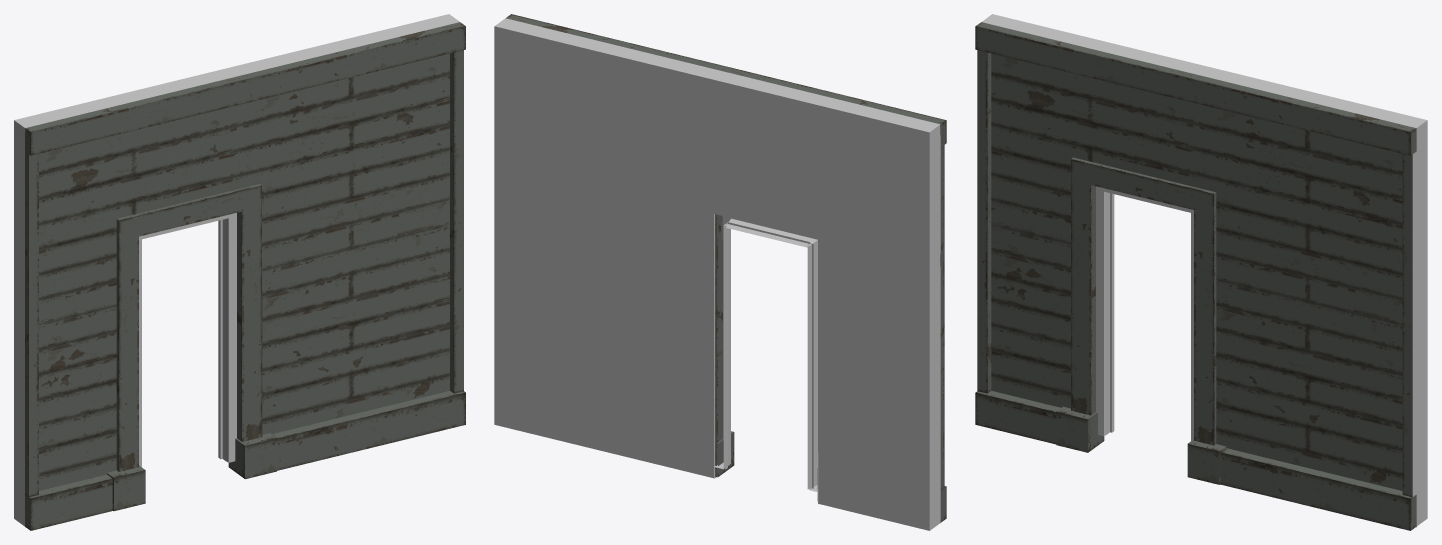
Rendered from SM_EWall400DoorB.FBX.
3 renders of one model, left to right at view 1: azimuth 30°, elevation 25°; view 2: azimuth 150°, elevation 25°; view 3: azimuth 330°, elevation 25°, orthographic.
Visible parts, largest first — view 1: SM_EWall400DoorB; view 2: SM_EWall400DoorB; view 3: SM_EWall400DoorB.
Boxes of the visible parts, <box> form: SM_EWall400DoorB: <box>14,14,465,530</box>; SM_EWall400DoorB: <box>494,14,946,530</box>; SM_EWall400DoorB: <box>975,14,1427,530</box>.
Bounding box in the file's own units: 400 × 351 × 28.49.
